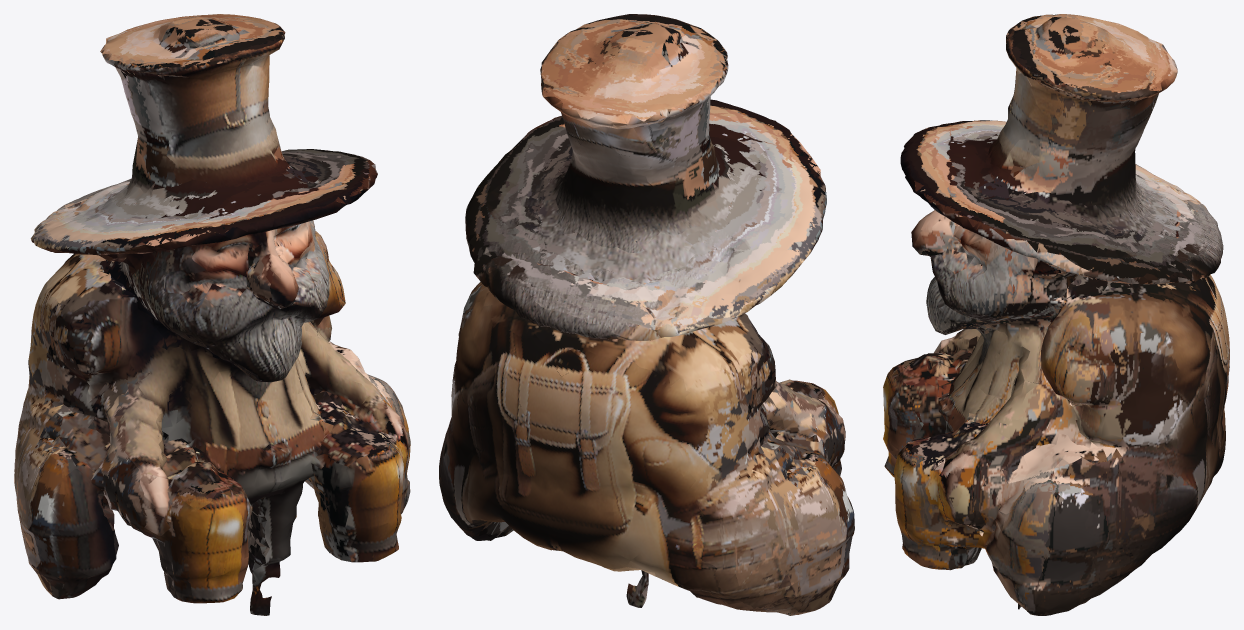
The model's file is merchant.fbx.
The picture shows the model from 3 angles, left to right: view 1: azimuth 30°, elevation 25°; view 2: azimuth 150°, elevation 25°; view 3: azimuth 270°, elevation 25°; orthographic projection. The views are drawn at different scales.
Visible parts, largest first — view 1: geometry_0; view 2: geometry_0; view 3: geometry_0.
Part boxes in pixels (x1,y1,x2,y2): geometry_0: (14,14,410,615); geometry_0: (439,14,854,615); geometry_0: (883,14,1229,615).
Bounding box in the file's own units: 64.11 × 95.91 × 53.43.
1 material, 1 textured.
